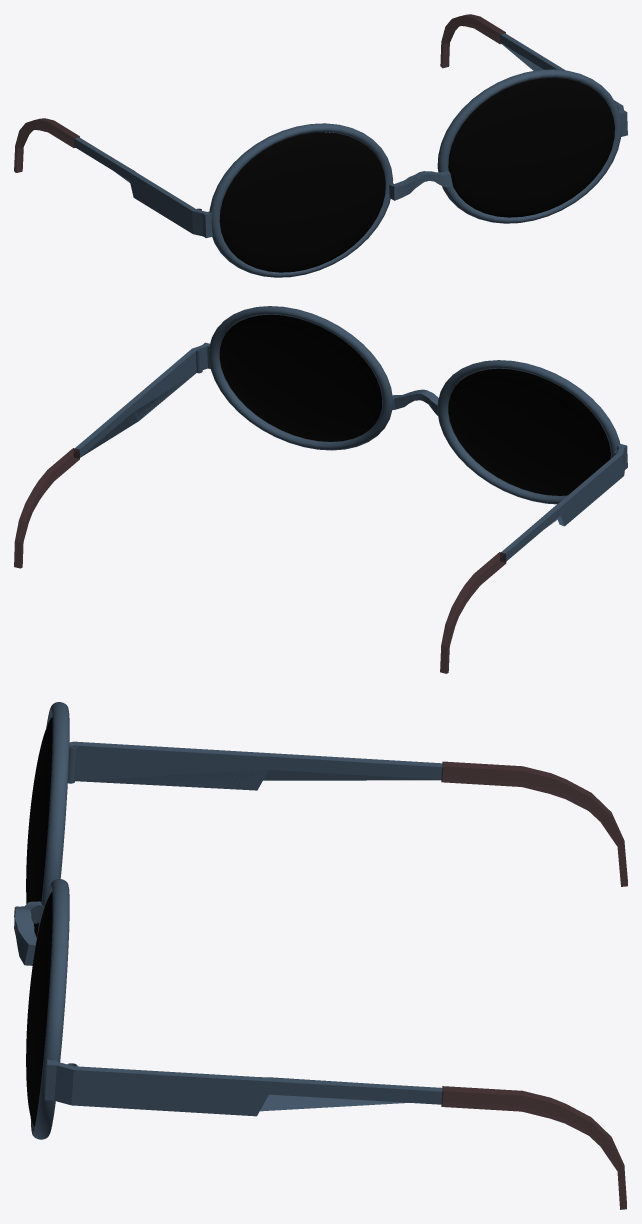
The model's file is Eye_Glass.fbx.
3 renders of one model, top to bottom at view 1: azimuth 30°, elevation 25°; view 2: azimuth 150°, elevation 25°; view 3: azimuth 270°, elevation 25°, orthographic. The views are drawn at different scales.
Parts seen in each view (by area): view 1: pSphere1, pTorus1, pCube4, pCube5, pCube6; view 2: pSphere1, pTorus1, pCube4, pCube5, pCube6; view 3: pCube4, pCube5, pTorus1, pSphere1, pCube6.
Boxes of the visible parts, x1,y1,x2,y2 form: pSphere1: (219, 77, 614, 272); pTorus1: (209, 69, 621, 277); pCube4: (74, 33, 627, 238); pCube5: (14, 14, 505, 172); pCube6: (389, 170, 452, 200); pSphere1: (219, 314, 610, 495); pTorus1: (209, 306, 620, 504); pCube4: (74, 342, 627, 561); pCube5: (14, 448, 506, 673); pCube6: (392, 389, 438, 415); pCube4: (45, 741, 442, 1116); pCube5: (441, 761, 627, 1209); pTorus1: (30, 702, 69, 1139); pSphere1: (26, 717, 52, 1126); pCube6: (14, 901, 44, 965).
Bounding box in the file's own units: 14.69 × 4.95 × 11.57.
